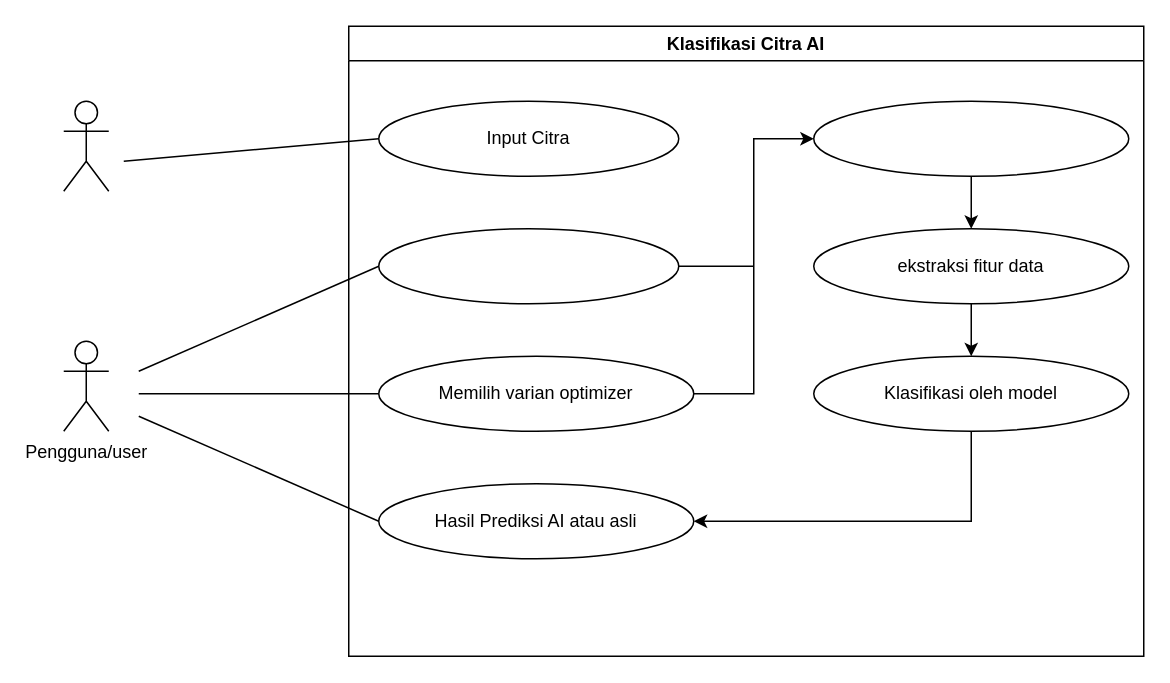
The diagram is 1170 pixels wide and 683 high, and some of its shapes have lost their labels. The centre of each missing label's shape, as x and y in pixels:
Generatif AI: pixel 85 145
Memilih varian arsitektur: pixel 528 265
Pra-pemrosesan: pixel 970 138
